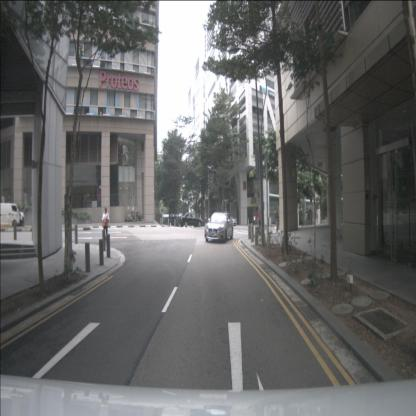human-pedestrian-adult: (102, 207, 109, 241), (257, 206, 262, 235)
vehicle-car: (204, 211, 234, 242), (0, 203, 24, 228), (180, 212, 203, 228), (224, 215, 237, 226)
